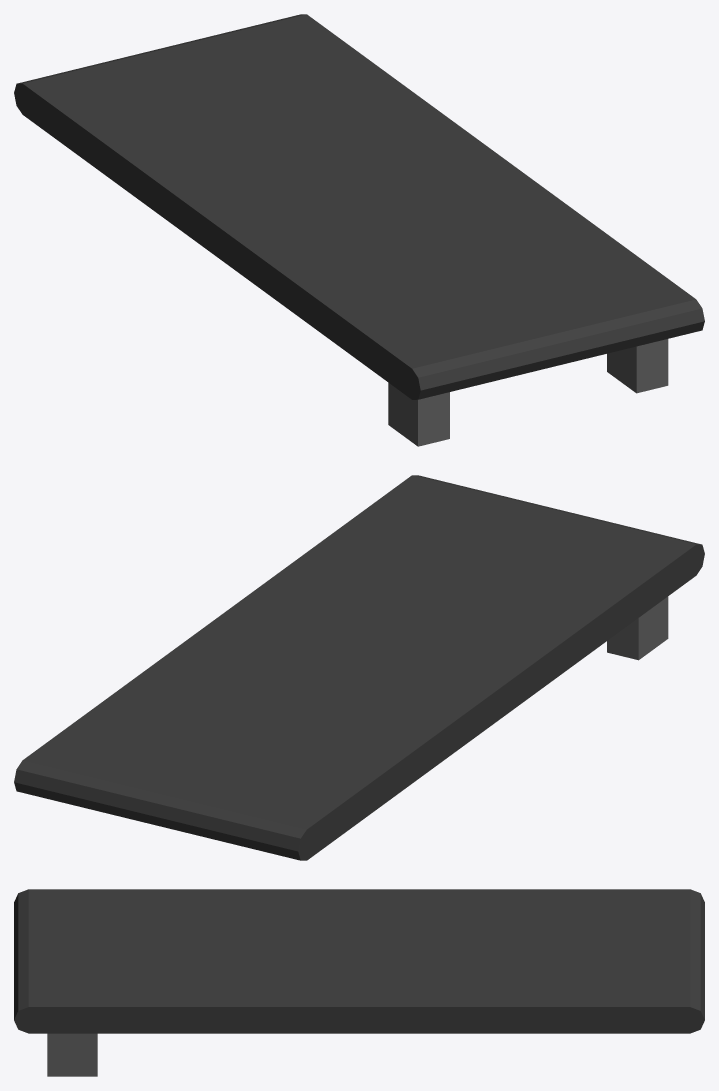
The model's file is Treadmill_R.fbx.
The picture shows the model from 3 angles, top to bottom: view 1: azimuth 30°, elevation 25°; view 2: azimuth 150°, elevation 25°; view 3: azimuth 270°, elevation 25°; orthographic projection. The views are drawn at different scales.
Visible parts, largest first — view 1: Treadmill_R; view 2: Treadmill_R; view 3: Treadmill_R.
Boxes of the visible parts, x1,y1,x2,y2 form: Treadmill_R: [14, 14, 704, 446]; Treadmill_R: [14, 475, 704, 860]; Treadmill_R: [14, 889, 704, 1076].
Size of the model in its own units: 58.91 by 17.86 by 146.
